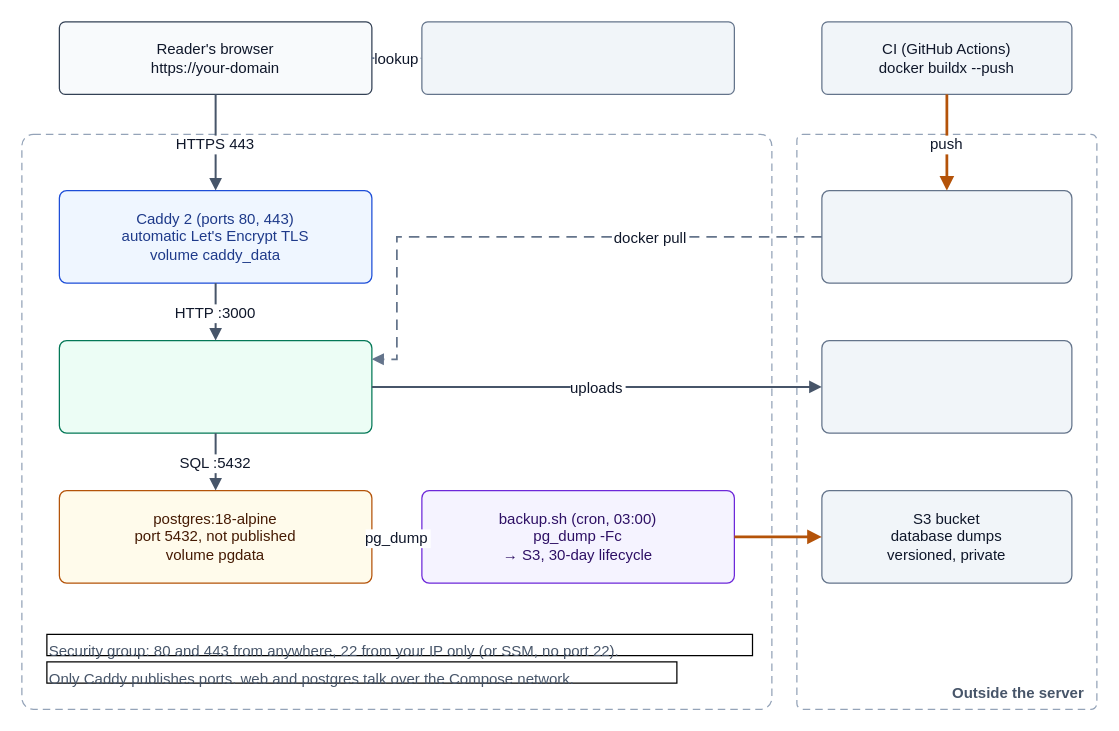
This 1119x731 diagram has some shape labels left out. The shapes that lost their labels are listed below. From the top down, each one's box as (x1, y1, x2, y2) in pixels, then its label:
(421, 21, 734, 94): DNS (Route 53 or Cloudflare) A record → Elastic IP
(821, 189, 1072, 283): Image registry GHCR or Amazon ECR tag = git commit
(58, 339, 372, 433): web: Moks CMS (Next.js) node server.js, port 3000 read-only, user 1000
(821, 339, 1072, 433): Object storage media uploads Cloudflare R2 or S3
(21, 133, 772, 709): EC2 instance (Ubuntu 24.04, Docker Compose)
